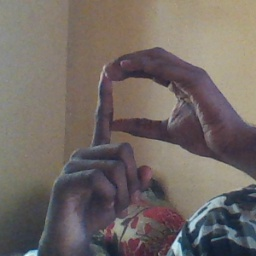P: (57, 41, 212, 219)
